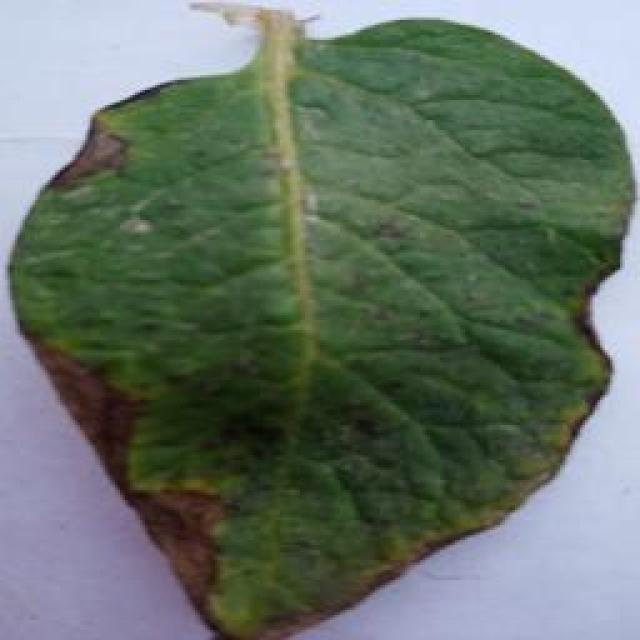Potato_Late_Blight: (10, 10, 622, 640)
